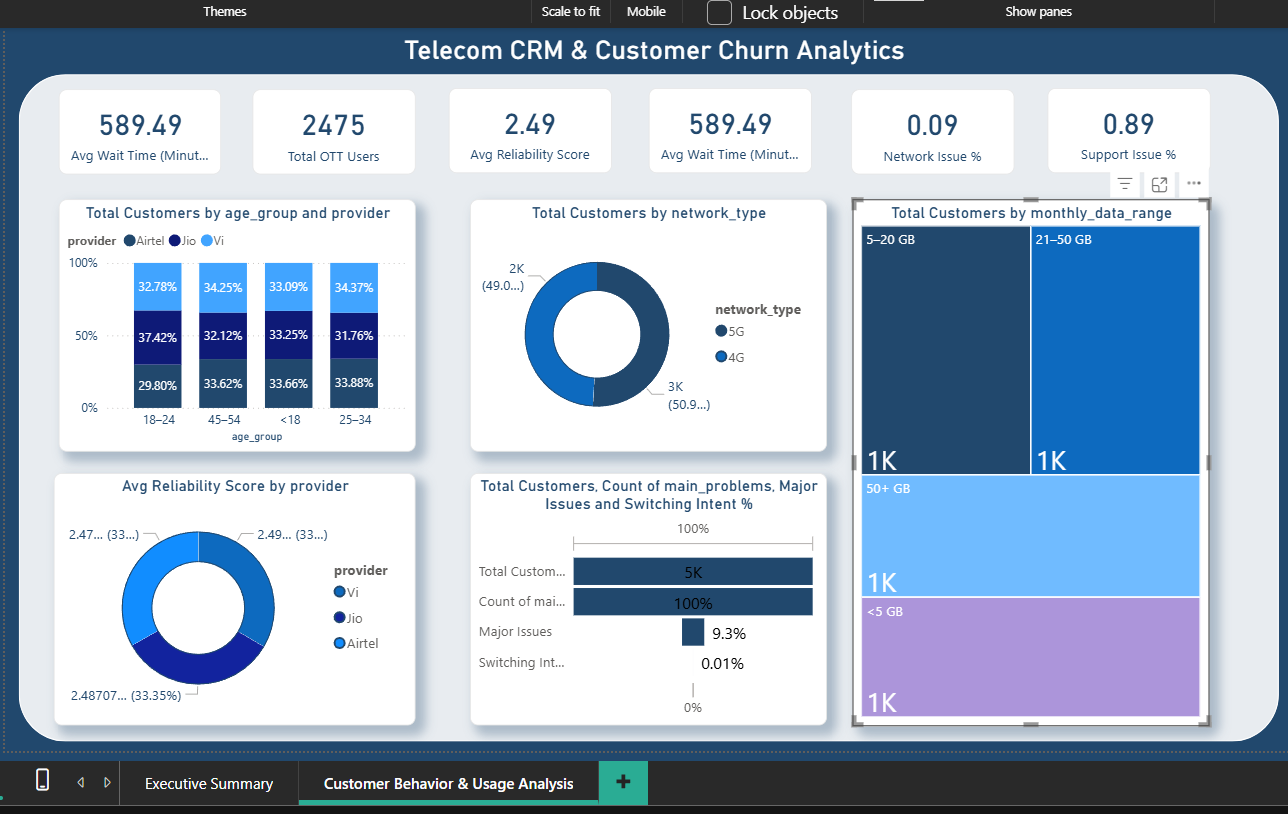

The page's visual inventory and layout, read from the dashboard file:
{"tool":"powerbi","page":{"name":"Customer Behavior & Network Perfomance","canvas":[1280,720],"ordinal":1},"visuals":[{"type":"shape","box":[13.1,46.5,1254,664],"z":0},{"type":"textbox","title":"Telecom CRM & Customer Churn Analytics","box":[370.4,0,551.5,41.7],"z":1000},{"type":"card","fields":{"Values":["telecom_synthetic_5000.Avg Wait Time (Minutes)"]},"box":[53.6,60.7,162,84.6],"z":2000},{"type":"card","fields":{"Values":["telecom_synthetic_5000.Total OTT Users"]},"box":[246.7,60.8,162.1,84.6],"z":3000},{"type":"card","fields":{"Values":["telecom_synthetic_5000.Average Reliability Score"]},"box":[441.1,59.6,162.1,84.6],"z":4000},{"type":"card","fields":{"Values":["telecom_synthetic_5000.Avg Wait Time (Minutes)"]},"box":[640.1,59.6,162.1,84.6],"z":5000},{"type":"card","fields":{"Values":["telecom_synthetic_5000.Network Issue %"]},"box":[841.6,60.8,162.1,84.6],"z":6000},{"type":"card","fields":{"Values":["telecom_synthetic_5000.Support Issue %"]},"box":[1037.1,59.6,162.1,84.6],"z":7000},{"type":"hundredPercentStackedColumnChart","title":"Customer Distribution by Age Group & Provider","fields":{"Category":["telecom_synthetic_5000.age_group"],"Series":["telecom_synthetic_5000.provider"],"Y":["telecom_synthetic_5000.Total Customers"]},"box":[53.6,170.5,355.2,251.5],"z":8000},{"type":"funnel","title":"Customer Issues & Switching Intent Overview","fields":{"Y":["telecom_synthetic_5000.Total Customers","CountNonNull(telecom_synthetic_5000.main_problems)","telecom_synthetic_5000.Major Issues","telecom_synthetic_5000.Switching Intent %"]},"box":[462.5,443.4,355.2,251.5],"z":9000},{"type":"treemap","title":"Monthly Data Usage Segmentation","fields":{"Group":["telecom_synthetic_5000.monthly_data_range"],"Values":["telecom_synthetic_5000.Total Customers"]},"box":[844,170.5,355.2,524.5],"z":10000},{"type":"donutChart","fields":{"Category":["telecom_synthetic_5000.provider"],"Y":["telecom_synthetic_5000.Average Reliability Score"]},"box":[48.9,443.4,360,251.5],"z":11000},{"type":"donutChart","title":"Network Type Split (4G vs 5G)","fields":{"Category":["telecom_synthetic_5000.network_type"],"Y":["telecom_synthetic_5000.Total Customers"]},"box":[462.5,170.5,355.2,251.5],"z":12000}]}

Visuals, with their boxes on the page's 1280x720 design canvas (x1, y1, x2, y2). These are canvas units, not pixel positions in the 1288x814 screenshot, which may show the page scaled, cropped or inside an application window:
shape: x1=13 y1=46 x2=1267 y2=710
"Telecom CRM & Customer Churn Analytics" textbox: x1=370 y1=0 x2=922 y2=42
card - telecom_synthetic_5000.Avg Wait Time (Minutes): x1=54 y1=61 x2=216 y2=145
card - telecom_synthetic_5000.Total OTT Users: x1=247 y1=61 x2=409 y2=145
card - telecom_synthetic_5000.Average Reliability Score: x1=441 y1=60 x2=603 y2=144
card - telecom_synthetic_5000.Avg Wait Time (Minutes): x1=640 y1=60 x2=802 y2=144
card - telecom_synthetic_5000.Network Issue %: x1=842 y1=61 x2=1004 y2=145
card - telecom_synthetic_5000.Support Issue %: x1=1037 y1=60 x2=1199 y2=144
"Customer Distribution by Age Group & Provider" hundredPercentStackedColumnChart: x1=54 y1=170 x2=409 y2=422
"Customer Issues & Switching Intent Overview" funnel: x1=462 y1=443 x2=818 y2=695
"Monthly Data Usage Segmentation" treemap: x1=844 y1=170 x2=1199 y2=695
donutChart - telecom_synthetic_5000.provider x telecom_synthetic_5000.Average Reliability Score: x1=49 y1=443 x2=409 y2=695
"Network Type Split (4G vs 5G)" donutChart: x1=462 y1=170 x2=818 y2=422
